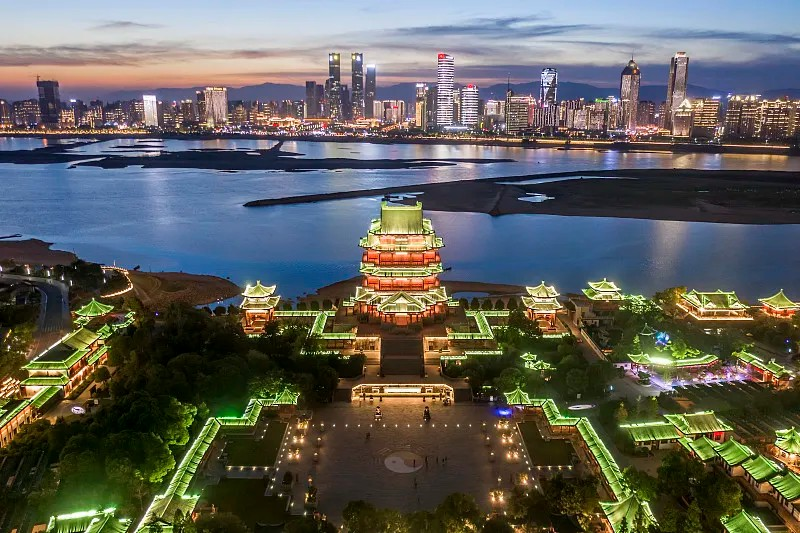Teng: (342, 201, 460, 327)
